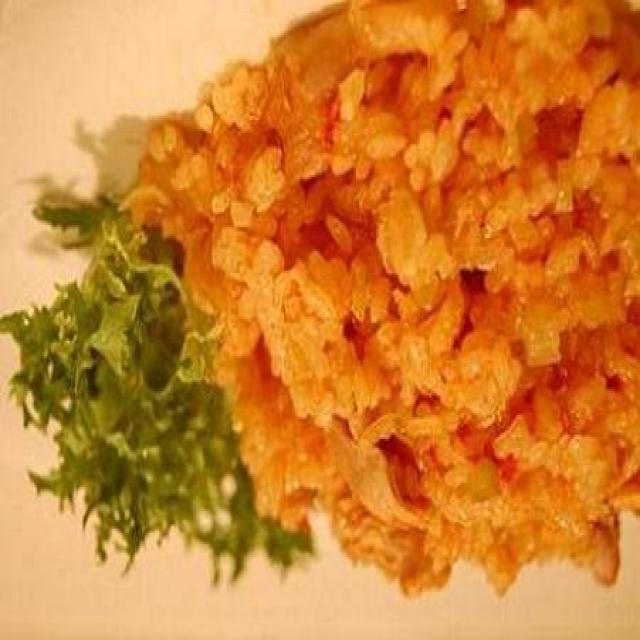Rice: (198, 2, 640, 620)
